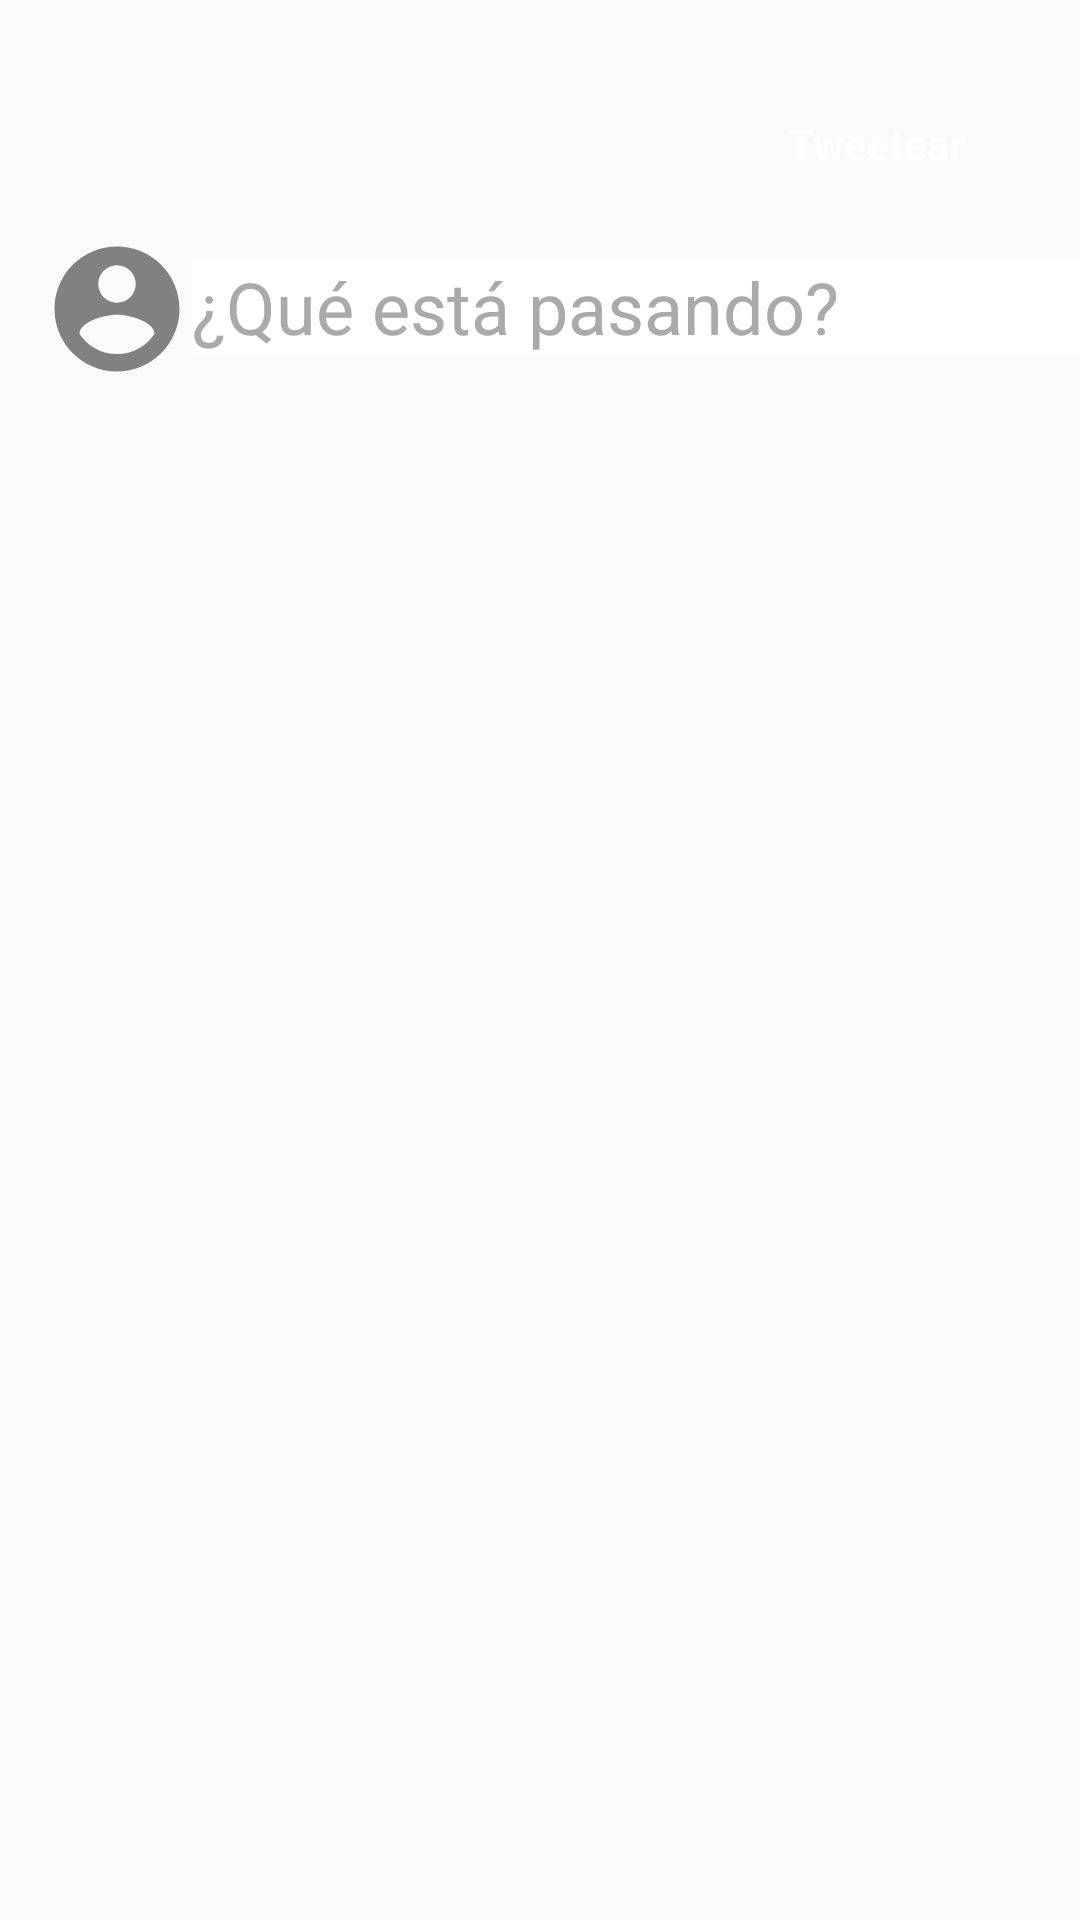

Icon click points for this 1080x1920 phone screenshot, format (x,y):
account circle gris: (117,309)
